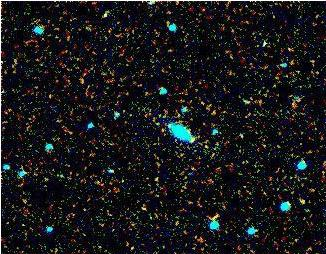star: (178, 121, 208, 151)
